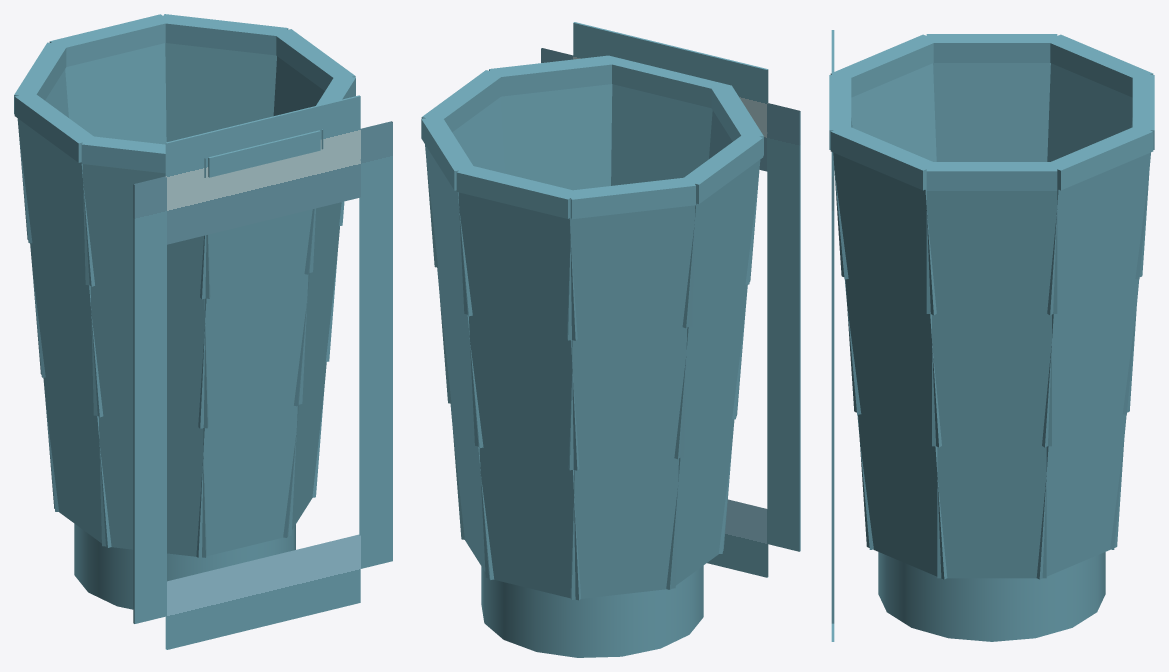
The model's file is CMU3DRMCDrinkGlass.glb.
The picture shows the model from 3 angles, left to right: view 1: azimuth 30°, elevation 25°; view 2: azimuth 150°, elevation 25°; view 3: azimuth 270°, elevation 25°; orthographic projection.
Visible parts, largest first — view 1: base original source artwork, hollow wall tier 2 facet 7, hollow wall tier 1 facet 7, hollow wall tier 2 facet 6, hollow wall tier 1 facet 6, hollow wall tier 3 facet 2, hollow wall tier 3 facet 6, hollow wall tier 3 facet 3, hollow wall tier 2 facet 5, hollow wall tier 3 facet 5, hollow wall tier 1 facet 5, hollow wall tier 3 facet 7 (+14 smaller); view 2: base original source artwork, hollow wall tier 3 facet 4, hollow wall tier 2 facet 4, hollow wall tier 1 facet 4, hollow wall tier 3 facet 3, hollow wall tier 2 facet 3, heavy glass foot, hollow wall tier 1 facet 3, hollow wall tier 3 facet 8, hollow wall tier 3 facet 7, hollow wall tier 2 facet 5, hollow wall tier 3 facet 5 (+15 smaller); view 3: hollow wall tier 3 facet 1, hollow wall tier 2 facet 1, hollow wall tier 1 facet 1, heavy glass foot, hollow wall tier 3 facet 5, hollow wall tier 2 facet 2, hollow wall tier 3 facet 2, hollow wall tier 2 facet 8, hollow wall tier 3 facet 8, hollow wall tier 1 facet 8, hollow wall tier 1 facet 2, hollow wall tier 3 facet 4 (+10 smaller).
Part boxes in pixels (x1,y1,x2,y2): base original source artwork: (133, 95, 392, 649); hollow wall tier 2 facet 7: (198, 272, 308, 428); hollow wall tier 1 facet 7: (196, 406, 297, 558); hollow wall tier 2 facet 6: (90, 284, 208, 428); hollow wall tier 1 facet 6: (98, 414, 206, 557); hollow wall tier 3 facet 2: (165, 43, 276, 141); hollow wall tier 3 facet 6: (82, 164, 210, 298); hollow wall tier 3 facet 3: (65, 43, 166, 144); hollow wall tier 2 facet 5: (30, 242, 103, 417); hollow wall tier 3 facet 5: (17, 118, 94, 286); hollow wall tier 1 facet 5: (43, 376, 111, 547); hollow wall tier 3 facet 7: (200, 208, 315, 299); base original source artwork: (541, 22, 800, 577); hollow wall tier 3 facet 4: (567, 205, 695, 340); hollow wall tier 2 facet 4: (568, 325, 687, 470); hollow wall tier 1 facet 4: (570, 456, 678, 599); hollow wall tier 3 facet 3: (458, 192, 577, 340); hollow wall tier 2 facet 3: (469, 314, 579, 470); heavy glass foot: (481, 565, 703, 657); hollow wall tier 1 facet 3: (479, 446, 580, 600); hollow wall tier 3 facet 8: (500, 84, 612, 190); hollow wall tier 3 facet 7: (611, 84, 712, 185); hollow wall tier 2 facet 5: (674, 283, 747, 459); hollow wall tier 3 facet 5: (682, 160, 760, 328); hollow wall tier 3 facet 1: (926, 191, 1057, 313); hollow wall tier 2 facet 1: (932, 312, 1051, 446); hollow wall tier 1 facet 1: (937, 444, 1046, 578); heavy glass foot: (878, 552, 1105, 641); hollow wall tier 3 facet 5: (933, 63, 1050, 161); hollow wall tier 2 facet 2: (1042, 277, 1138, 447); hollow wall tier 3 facet 2: (1047, 152, 1150, 315); hollow wall tier 2 facet 8: (845, 277, 941, 447); hollow wall tier 3 facet 8: (833, 152, 936, 315); hollow wall tier 1 facet 8: (858, 412, 947, 579); hollow wall tier 1 facet 2: (1036, 413, 1125, 579); hollow wall tier 3 facet 4: (1047, 63, 1132, 161).
Size of what is drawn, in the model's own units: 0.268 by 0.4688 by 0.268.
Materials: 3 (1 with a texture image).
